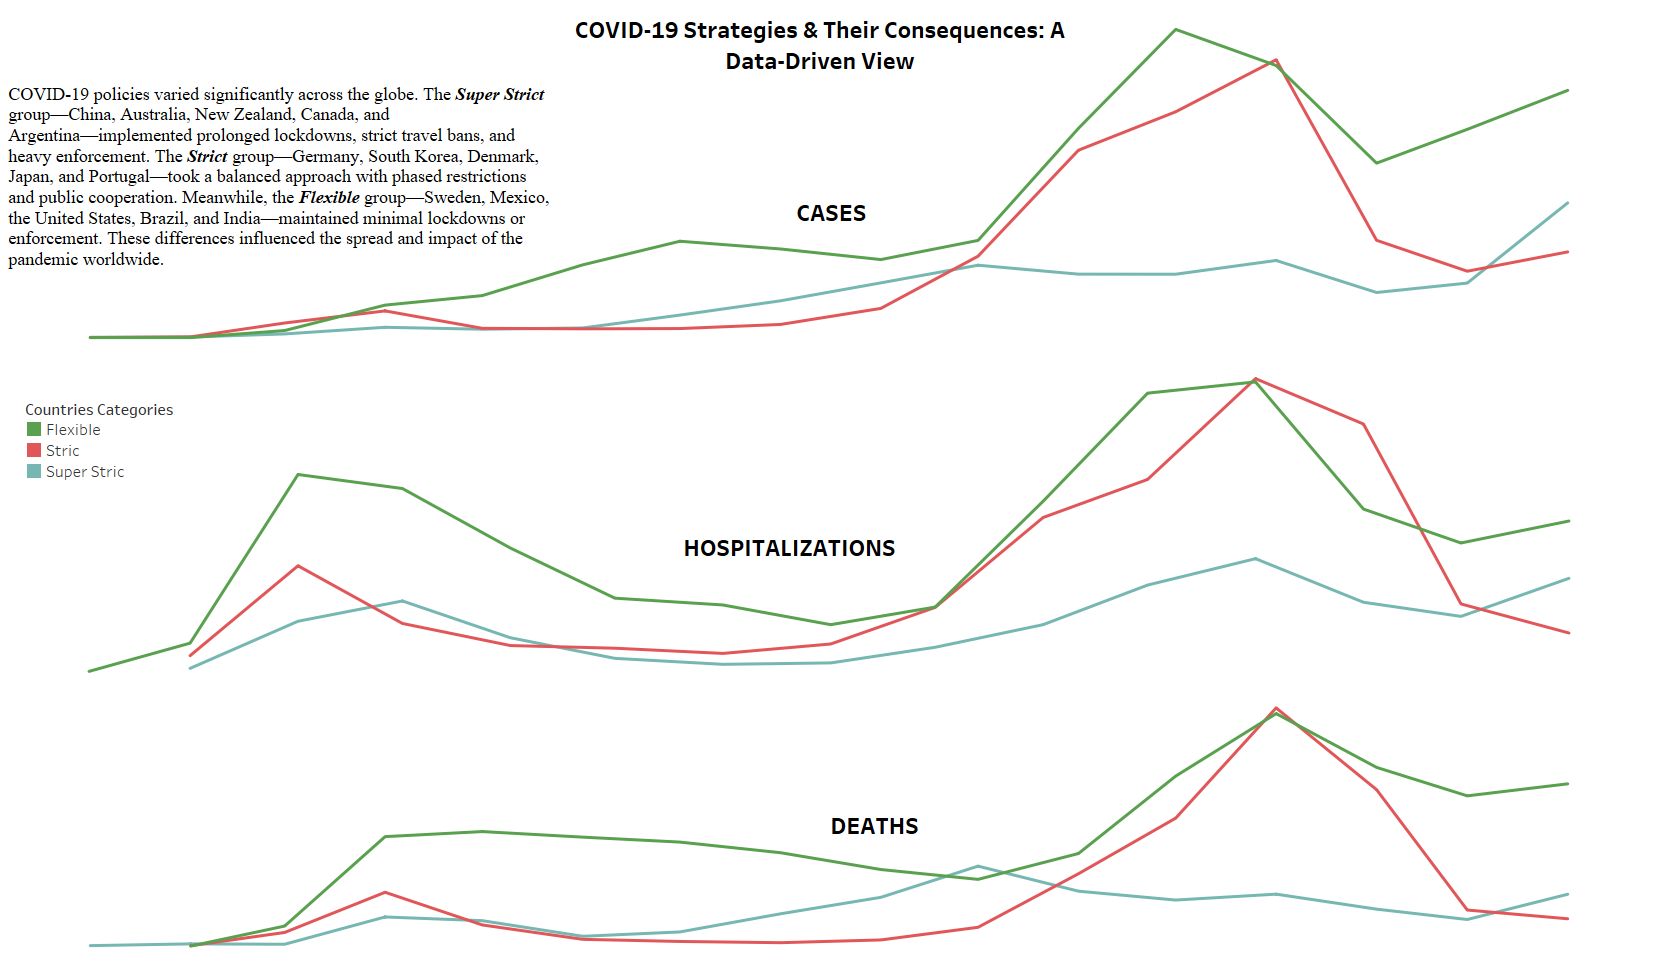

This screenshot's page, from the dashboard's own definition file:
{"tool":"tableau","page":{"name":"Flex vs Strict","canvas":[1000,1000],"units":"permille","ordinal":0},"visuals":[{"type":"worksheet","title":"Flex vs Strict - Cases","mark":"Automatic","rows":["new_cases_per_million"],"cols":["date"],"box":[4.8,9.1,990.3,359.4]},{"type":"text","box":[328.3,9.1,333.1,73.1]},{"type":"text","box":[3,75.4,333.1,214.9]},{"type":"text","box":[478.6,200,60.4,36.6]},{"type":"worksheet","title":"Flex vs Strict - Hosp","mark":"Automatic","rows":["hosp_patients_per_million"],"cols":["date"],"box":[4.8,368.5,990.3,341.9]},{"type":"legend","title":"Flex vs Strict - Cases","param":"[federated.079hfx01pjzfol1c4ayp50n285sd].[Location (group)]","box":[14.5,409.1,115.9,108.6]},{"type":"text","box":[410.4,545.1,135.8,36.6]},{"type":"worksheet","title":"Flex vs Strict - Deaths","mark":"Automatic","rows":["new_deaths_per_million"],"cols":["date"],"box":[4.8,710.4,990.3,280.5]},{"type":"text","box":[499.1,830.9,60.4,36.6]}]}

Visuals, with their boxes on the dashboard's canvas, which has no fixed pixel size, in thousandths of its width and height (x1, y1, x2, y2). These are canvas units, not pixel positions in the 1657x971 screenshot, which may show the page scaled, cropped or inside an application window:
"Flex vs Strict - Cases" worksheet: (5,9,995,368)
text: (328,9,661,82)
text: (3,75,336,290)
text: (479,200,539,237)
"Flex vs Strict - Hosp" worksheet: (5,368,995,710)
"Flex vs Strict - Cases" legend: (14,409,130,518)
text: (410,545,546,582)
"Flex vs Strict - Deaths" worksheet: (5,710,995,991)
text: (499,831,560,868)
